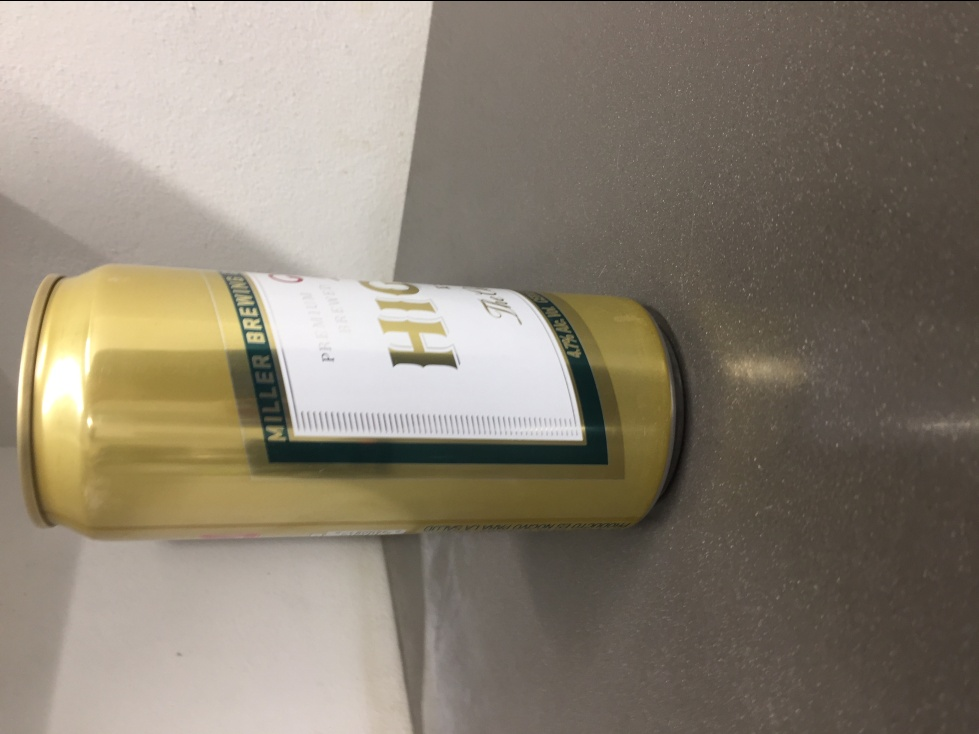miller: (14, 254, 684, 544)
